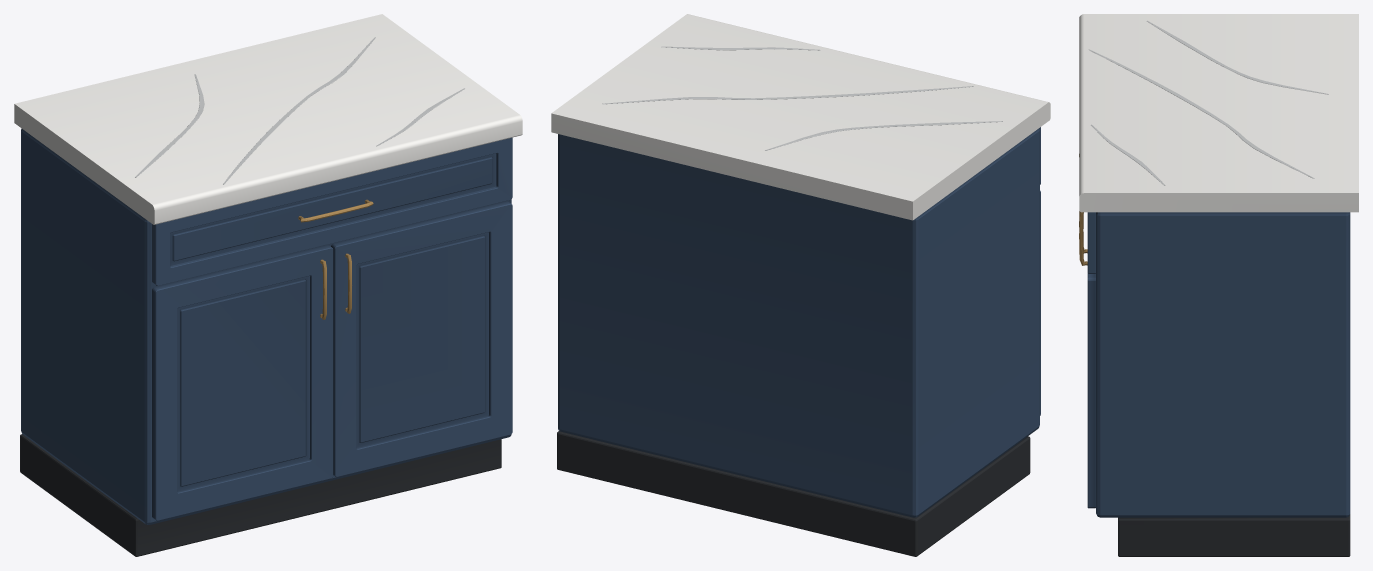
Rendered from counterMarble.glb.
3 renders of one model, left to right at view 1: azimuth 30°, elevation 25°; view 2: azimuth 150°, elevation 25°; view 3: azimuth 270°, elevation 25°, orthographic.
Visible parts, largest first — view 1: body, drawer; view 2: body; view 3: body, drawer.
Part boxes in pixels (x1,y1,x2,y2): body: [14, 14, 522, 556]; drawer: [152, 137, 512, 285]; body: [551, 14, 1050, 556]; body: [1079, 14, 1358, 556]; drawer: [1079, 154, 1095, 273].
Size of the model in its own units: 1 by 0.9513 by 0.6602.
